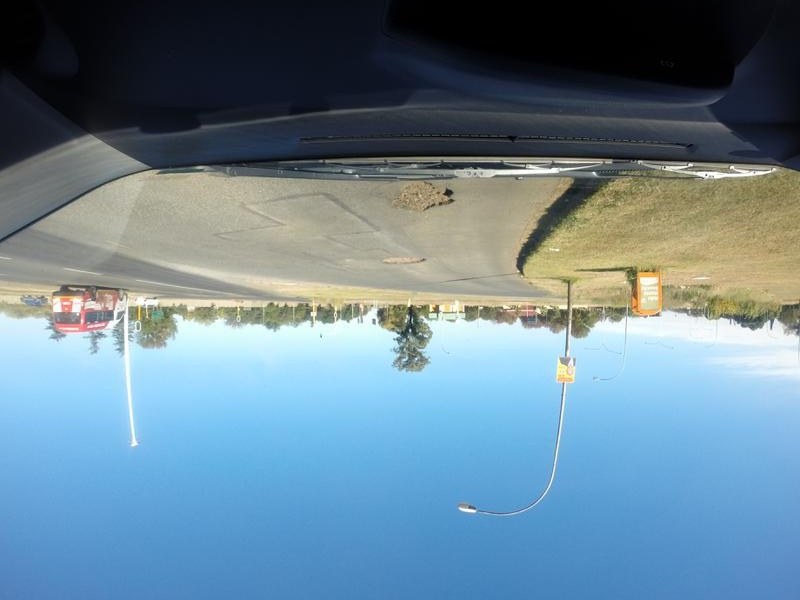pothole: (367, 182, 467, 220), (376, 249, 429, 268)
